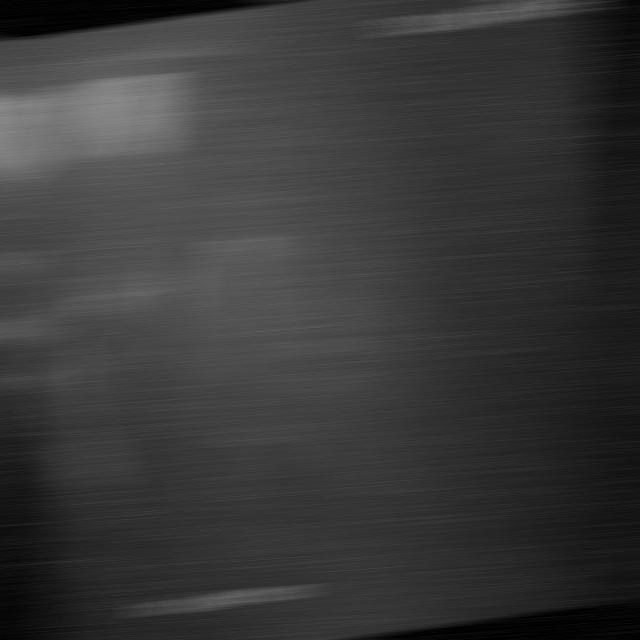cement_mixer_truck: (31, 213, 384, 548)
